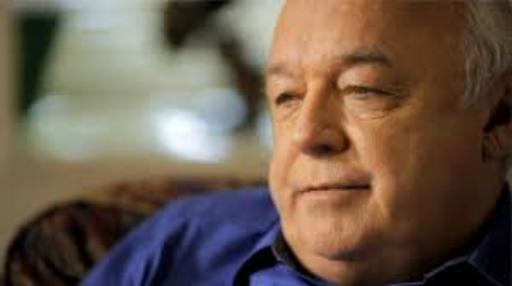left_eye: (340, 84, 398, 104)
left_lip_corner: (349, 181, 377, 197)
right_eye: (274, 91, 304, 107)
right_lip_corner: (288, 184, 308, 200)
